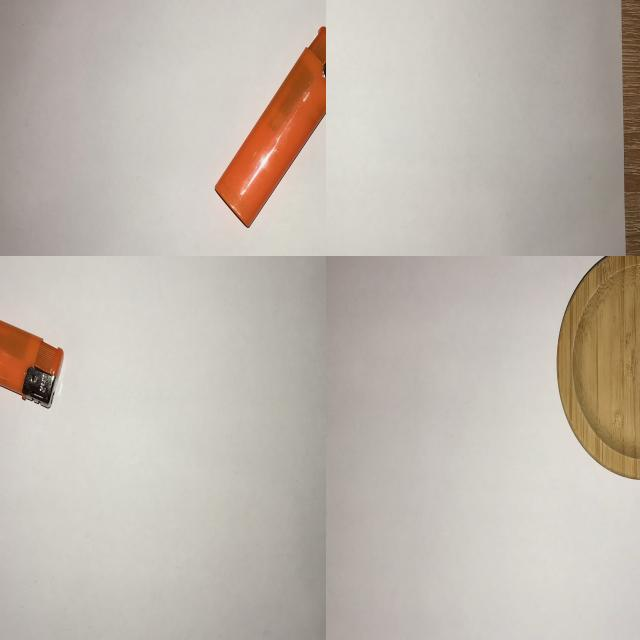cup_holder: (549, 256, 640, 489)
lighter: (209, 22, 326, 235), (0, 275, 71, 415)
